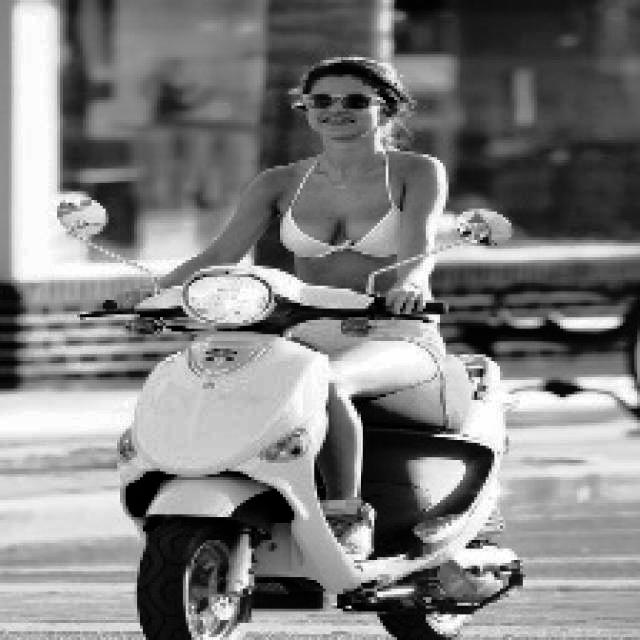Bike: (87, 282, 519, 638)
